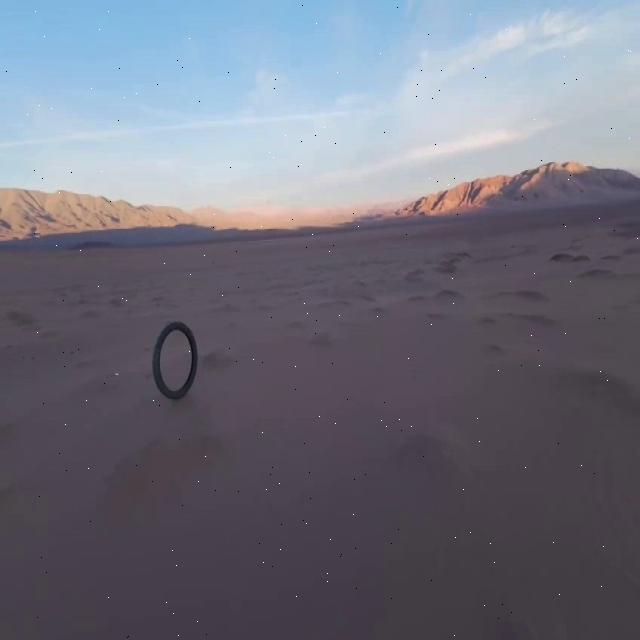Tire: (153, 323, 197, 398)
